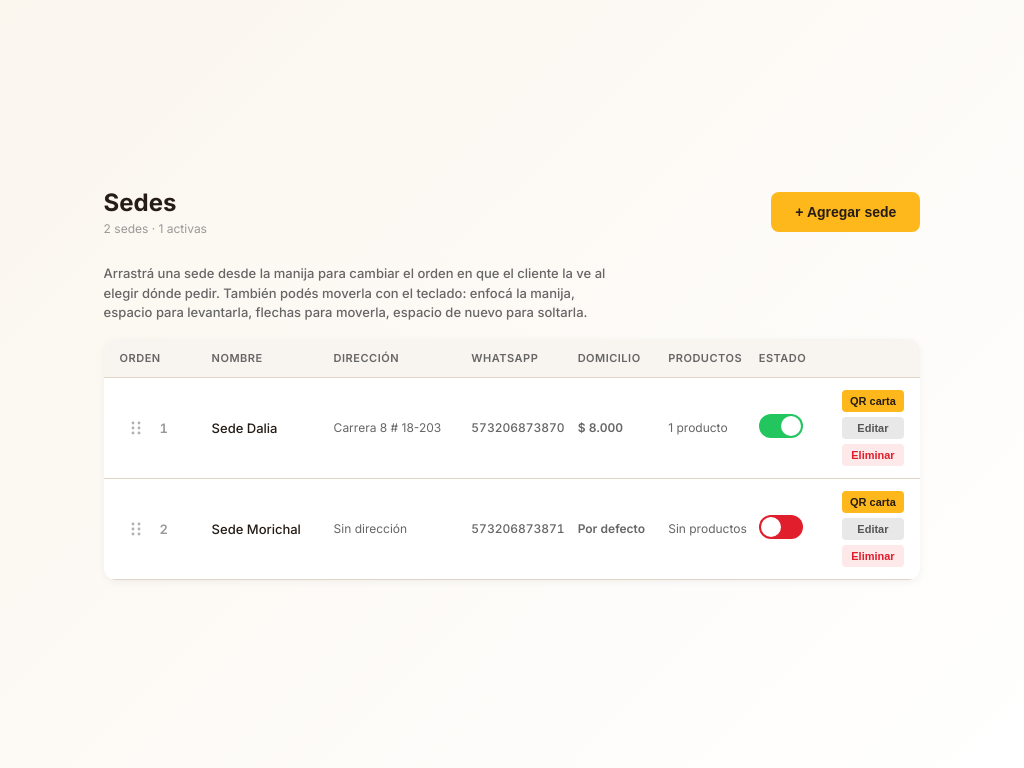
Test: SedesSection › abre el modal de alta desde el boton del header
The image size is (1024, 768).
Click the button "+ Agregar sede": (846, 212) [771,192,920,232]
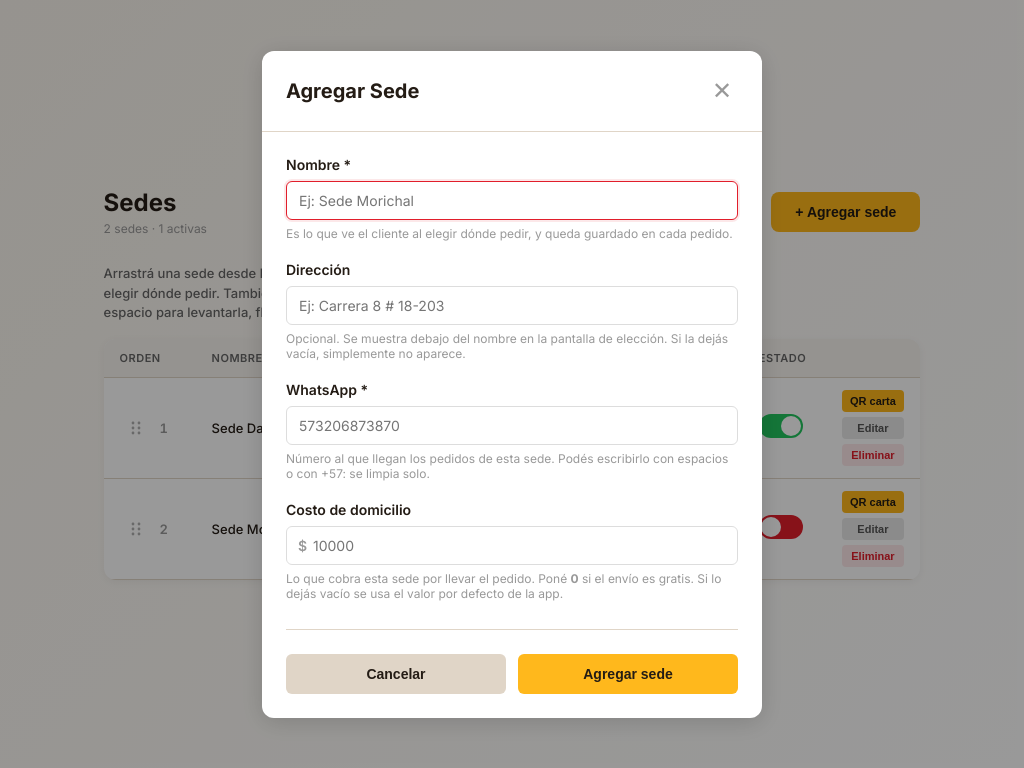
Result: the heading "Agregar Sede" is shown at [286,78,419,102]
